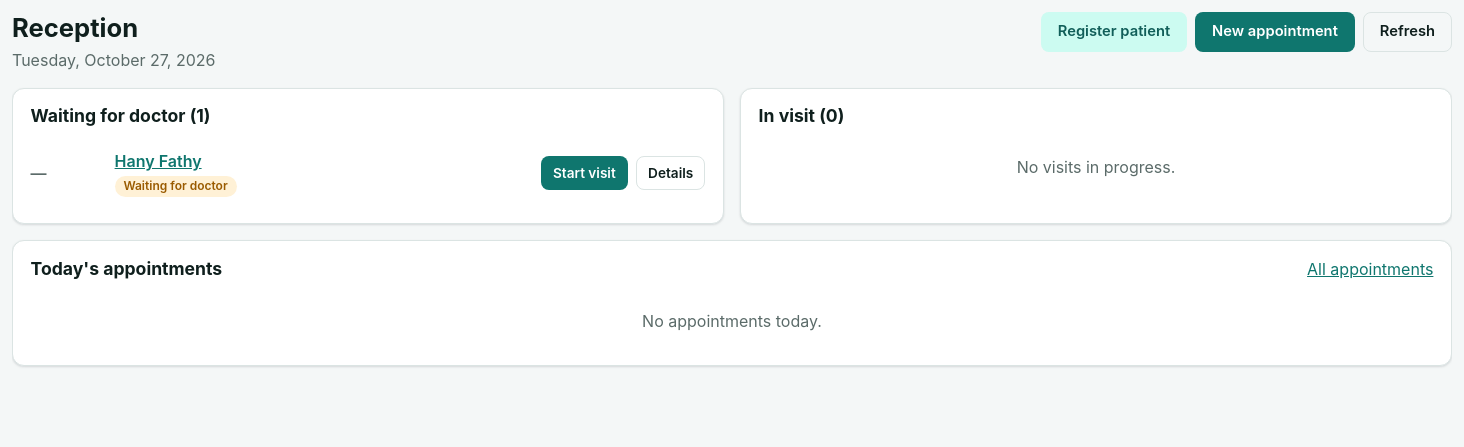
Test: role dashboards (APPT-002..005) › shows the active-visit protection message from the API
Click the button "Start visit" at (584, 173), box [541,156,628,190]
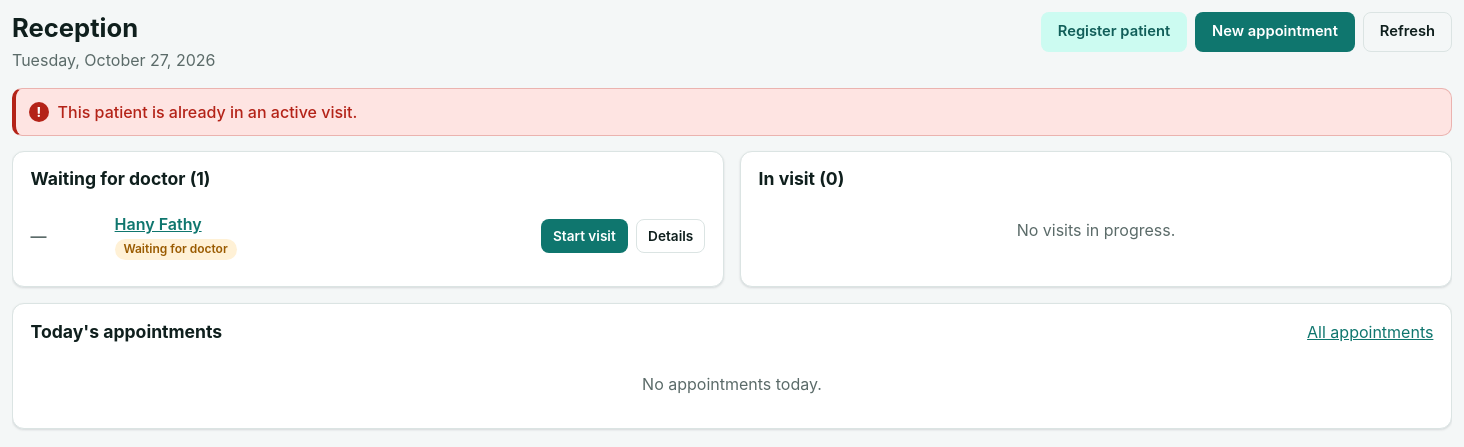
Expected: the message shows "already in an active visit", [58,102,357,122]
